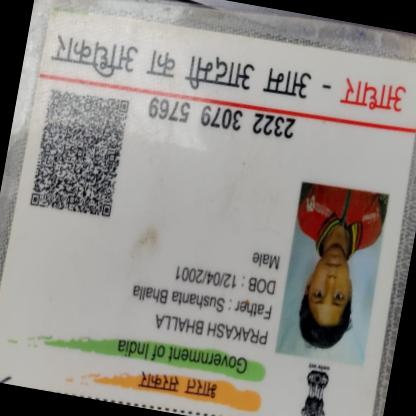aadhaar_card: (0, 4, 415, 415)
